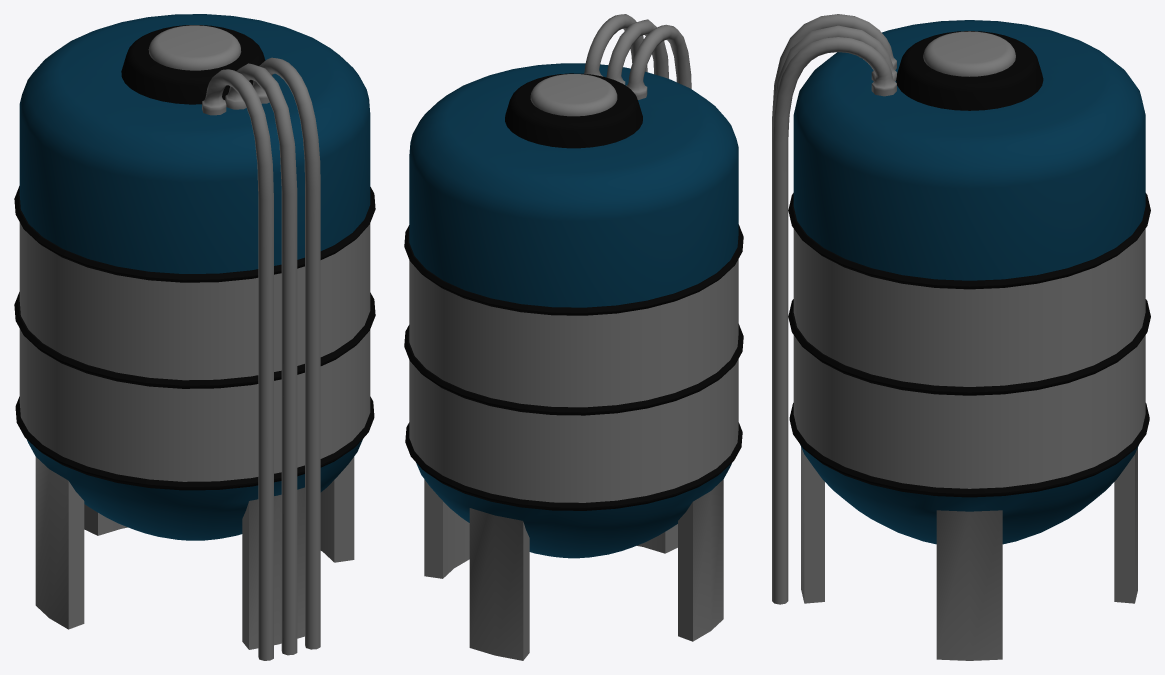
File: water_tower_3.fbx
3 renders of one model, left to right at view 1: azimuth 30°, elevation 25°; view 2: azimuth 150°, elevation 25°; view 3: azimuth 270°, elevation 25°, orthographic. The views are drawn at different scales.
Parts seen in each view (by area): view 1: Circle.031, BezierCurve.002; view 2: Circle.031, BezierCurve.002; view 3: Circle.031, BezierCurve.002.
Part boxes in pixels (bbox=[...]): Circle.031: bbox=[14, 14, 375, 649]; BezierCurve.002: bbox=[202, 57, 320, 660]; Circle.031: bbox=[404, 63, 743, 660]; BezierCurve.002: bbox=[584, 14, 691, 99]; Circle.031: bbox=[788, 20, 1150, 660]; BezierCurve.002: bbox=[772, 14, 896, 604].
Bounding box in the file's own units: 430 × 738 × 449.
